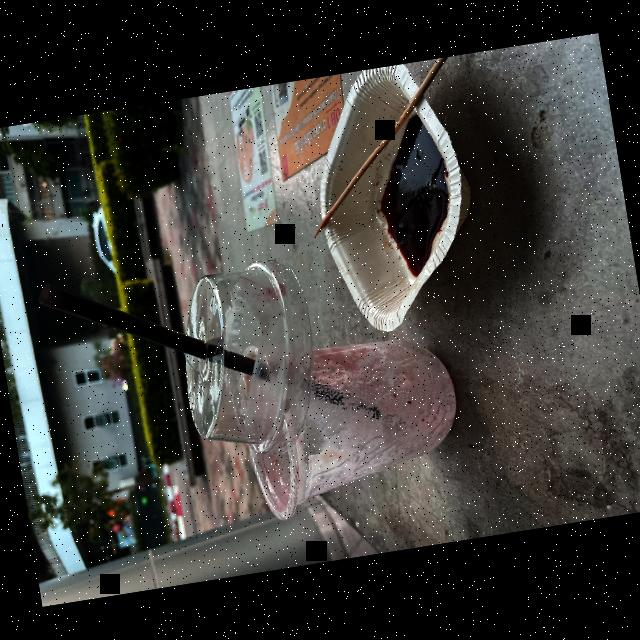cardboard_bowl: (286, 60, 499, 348)
plastic_cup: (225, 319, 476, 530)
plastic_cup_lid: (158, 243, 338, 472)
stick: (305, 60, 464, 240)
straw: (30, 272, 412, 440)
